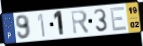1: (53, 10, 66, 38), (36, 13, 46, 39)
3: (93, 8, 109, 33)
9: (15, 13, 33, 40)
E: (110, 5, 129, 32)
R: (70, 10, 91, 37)
